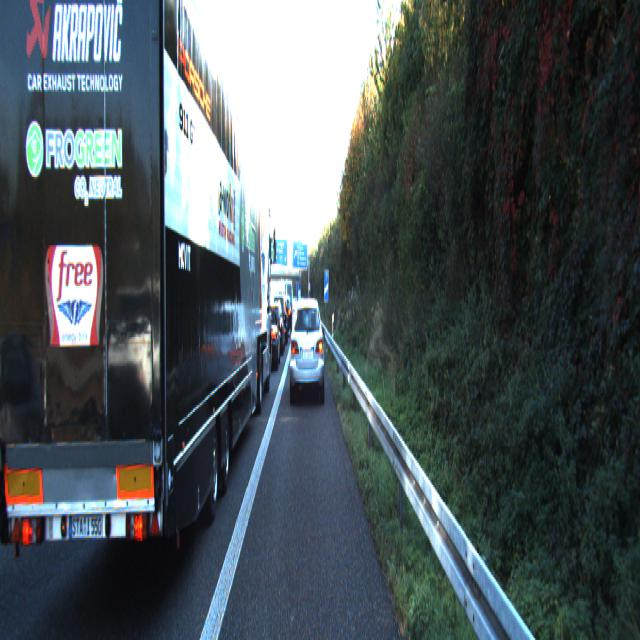Car: (14, 0, 272, 639), (288, 294, 324, 402), (254, 308, 281, 369)
